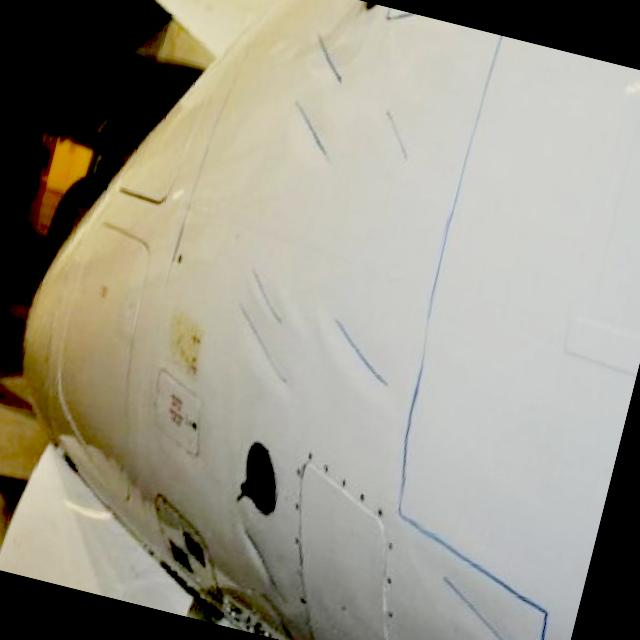dent: (217, 302, 303, 386), (424, 574, 533, 640), (314, 318, 402, 396), (286, 105, 344, 163), (234, 538, 292, 596), (242, 272, 294, 326), (304, 29, 351, 84), (378, 110, 422, 163)
